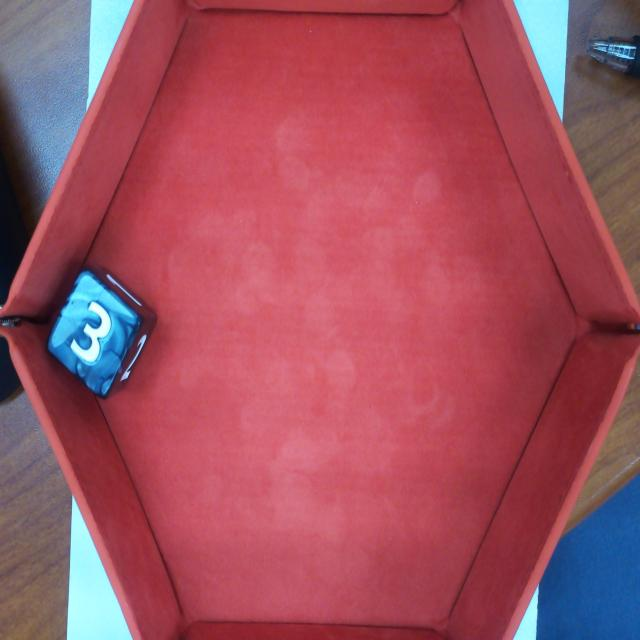dice: (50, 270, 147, 395)
